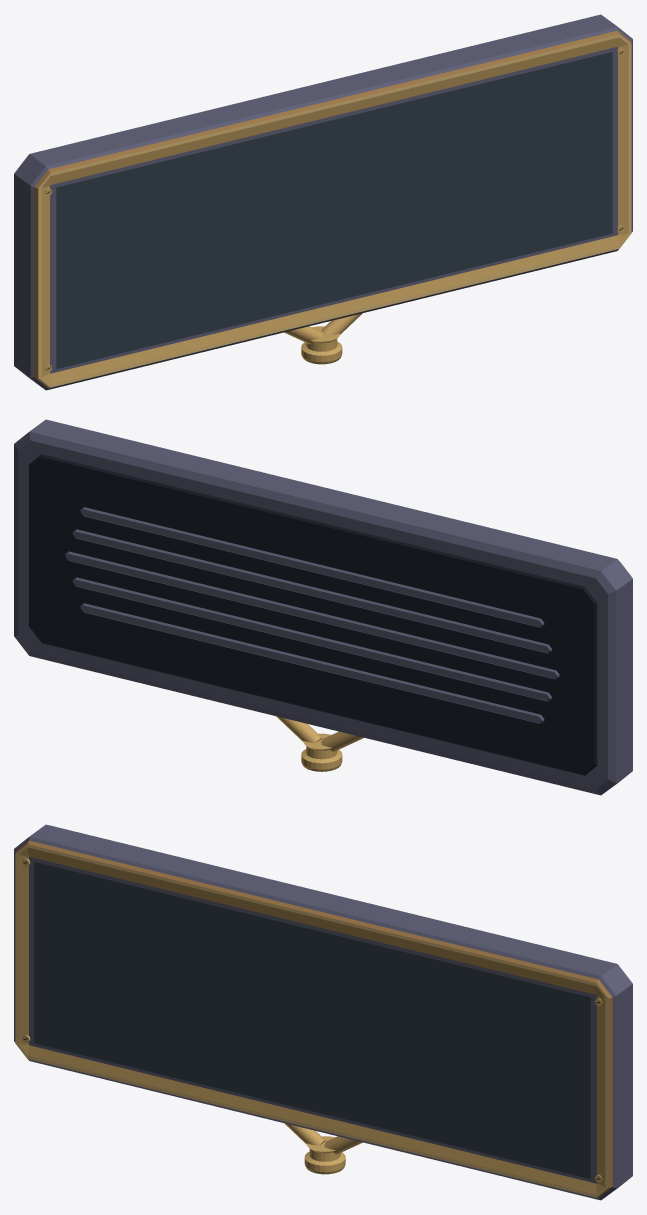
Rendered from venue-pin-flag.glb.
The picture shows the model from 3 angles, top to bottom: view 1: azimuth 30°, elevation 25°; view 2: azimuth 150°, elevation 25°; view 3: azimuth 330°, elevation 25°; orthographic projection.
Parts seen in each view (by area): view 1: Pin_Plate, Pin_Fittings, Pin_Housing; view 2: Pin_Housing, Pin_Fittings; view 3: Pin_Plate, Pin_Fittings, Pin_Housing.
Part boxes in pixels (x1,y1,x2,y2): Pin_Plate: [56, 52, 612, 368]; Pin_Fittings: [34, 30, 631, 388]; Pin_Housing: [14, 14, 632, 390]; Pin_Housing: [14, 419, 632, 795]; Pin_Fittings: [276, 561, 631, 771]; Pin_Plate: [34, 862, 590, 1178]; Pin_Fittings: [15, 840, 612, 1198]; Pin_Housing: [14, 824, 632, 1200].
Bounding box in the file's own units: 0.236 × 0.1 × 0.016.
